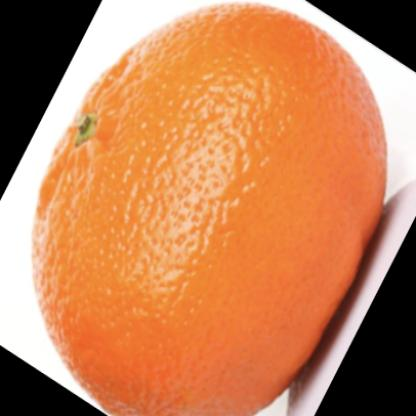fresh: (31, 7, 386, 416)
